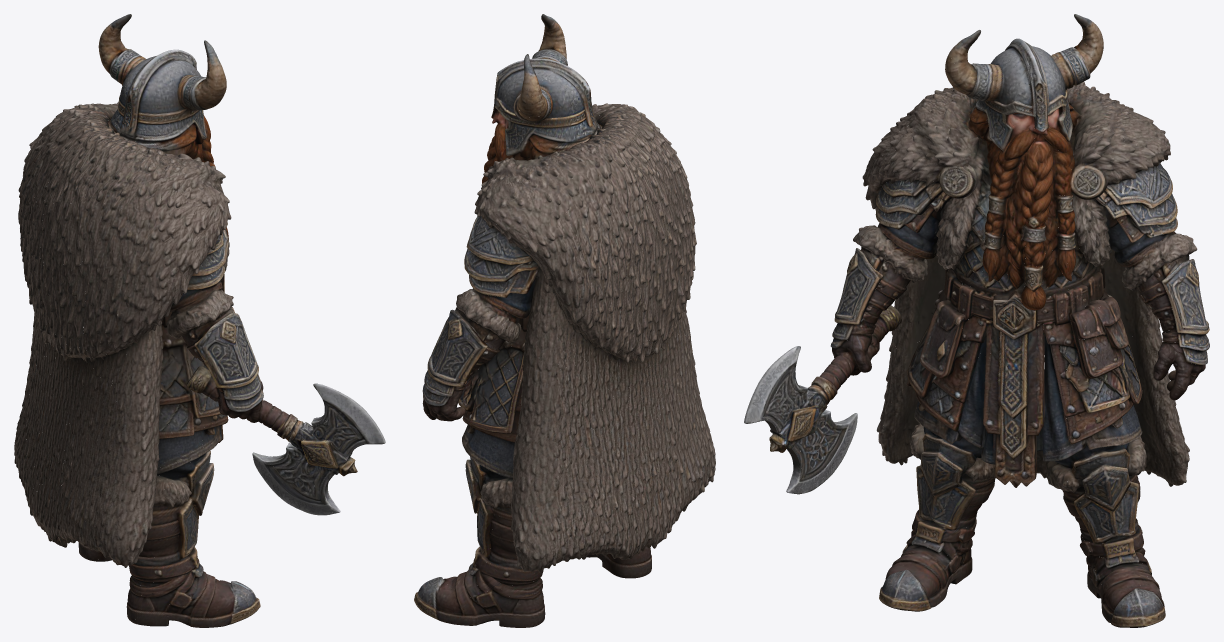
Rendered from photo_3d.glb.
The picture shows the model from 3 angles, left to right: view 1: azimuth 30°, elevation 25°; view 2: azimuth 150°, elevation 25°; view 3: azimuth 270°, elevation 25°; orthographic projection. The views are drawn at different scales.
Parts seen in each view (by area): view 1: tripo_node_3b97ab15-5c1f-4366-9b92-d244544ff68d; view 2: tripo_node_3b97ab15-5c1f-4366-9b92-d244544ff68d; view 3: tripo_node_3b97ab15-5c1f-4366-9b92-d244544ff68d.
Boxes of the visible parts, x1,y1,x2,y2 form: tripo_node_3b97ab15-5c1f-4366-9b92-d244544ff68d: (14,14,385,627); tripo_node_3b97ab15-5c1f-4366-9b92-d244544ff68d: (414,14,715,627); tripo_node_3b97ab15-5c1f-4366-9b92-d244544ff68d: (744,14,1209,627).
Bounding box in the file's own units: 0.407 × 1 × 0.7271.
1 material, 1 textured.
